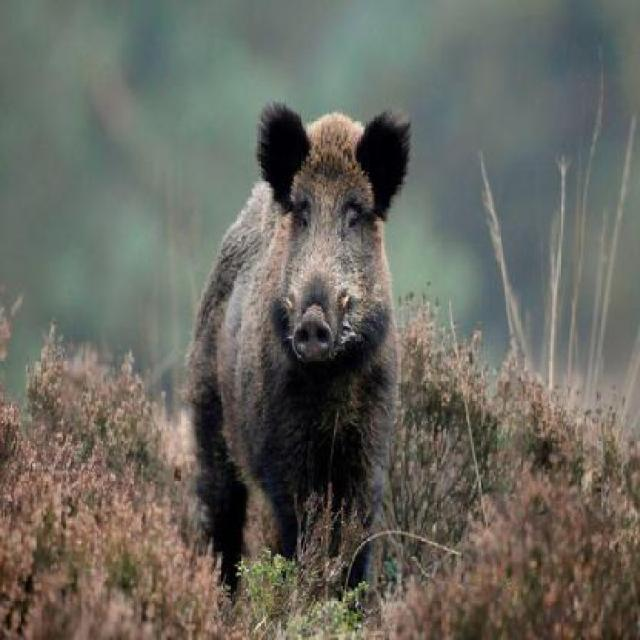wildboar: (180, 101, 417, 596)
